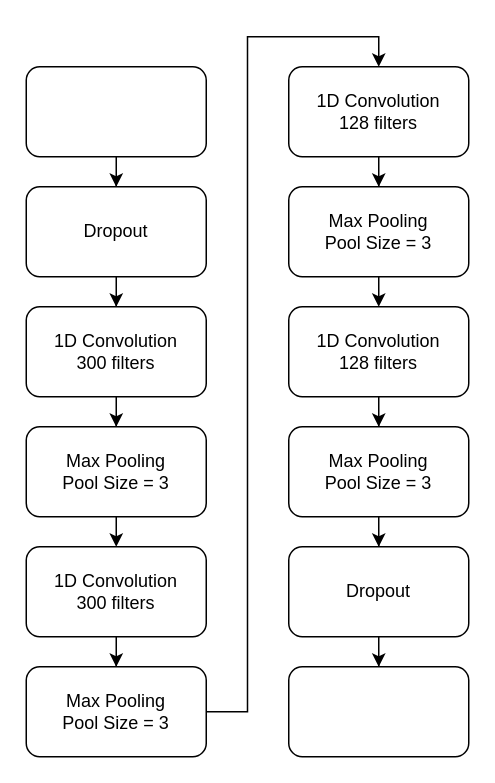
The diagram is 495 pixels wide and 783 high, and some of its shapes have lost their labels. The shapes that lost their labels are listed below. From the top down, each one's centre as x and y in pixels, then its label:
point (115, 111): Pretrained Embeddings
point (378, 711): Dense - SoftMax 20 Output Nodes
